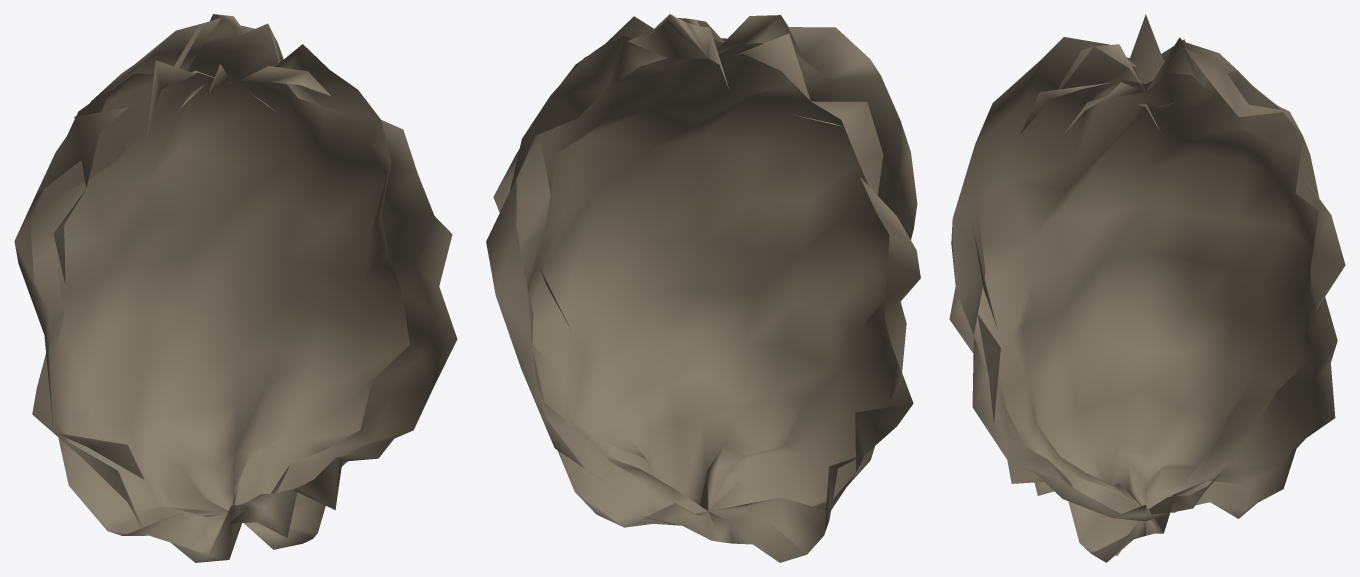
Rendered from rock_1.glb.
The picture shows the model from 3 angles, left to right: view 1: azimuth 30°, elevation 25°; view 2: azimuth 150°, elevation 25°; view 3: azimuth 270°, elevation 25°; orthographic projection. The views are drawn at different scales.
Parts seen in each view (by area): view 1: rock_mesh; view 2: rock_mesh; view 3: rock_mesh.
Part boxes in pixels (<box>): rock_mesh: <box>14,14,457,562</box>; rock_mesh: <box>486,14,920,562</box>; rock_mesh: <box>949,14,1345,562</box>.
Size of the model in its own units: 1.62 by 2.17 by 1.56.
